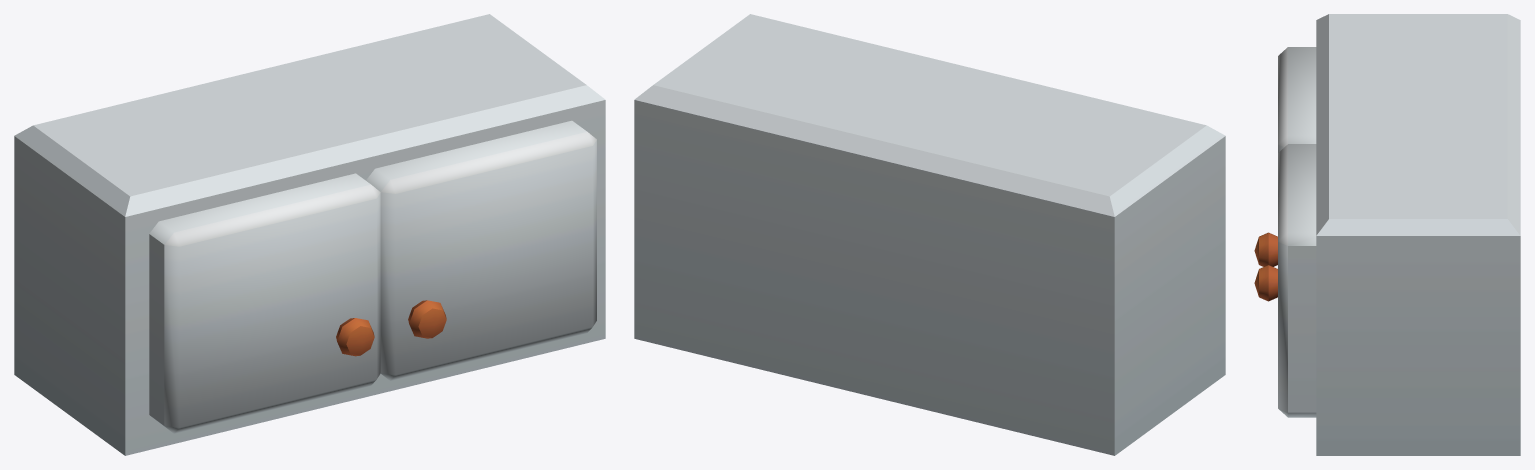
Rendered from cabinet_half.glb.
The picture shows the model from 3 angles, left to right: view 1: azimuth 30°, elevation 25°; view 2: azimuth 150°, elevation 25°; view 3: azimuth 270°, elevation 25°; orthographic projection. The views are drawn at different scales.
Parts seen in each view (by area): view 1: kitchencabinet_half; view 2: kitchencabinet_half; view 3: kitchencabinet_half.
Part boxes in pixels (left/top/right/bottom): kitchencabinet_half: left=14, top=14, right=605, bottom=455; kitchencabinet_half: left=634, top=14, right=1225, bottom=455; kitchencabinet_half: left=1254, top=14, right=1520, bottom=455.
Size of the model in its own units: 2 by 1 by 1.04.
1 material, 1 textured.
